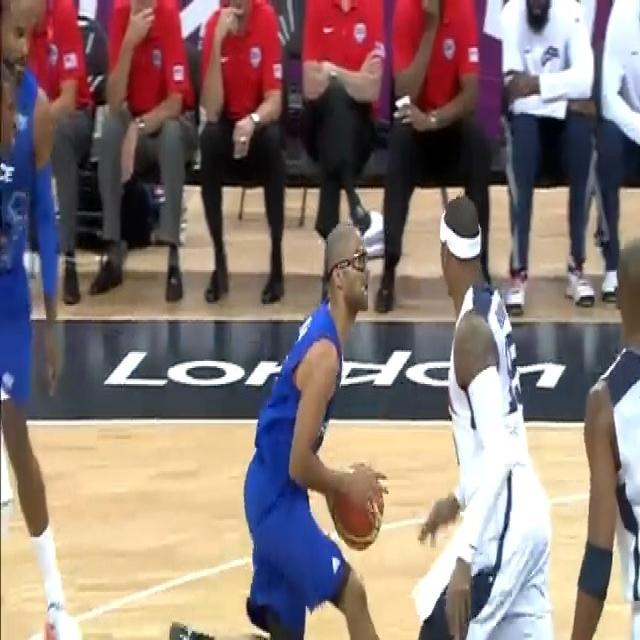basketball: (332, 463, 386, 551)
